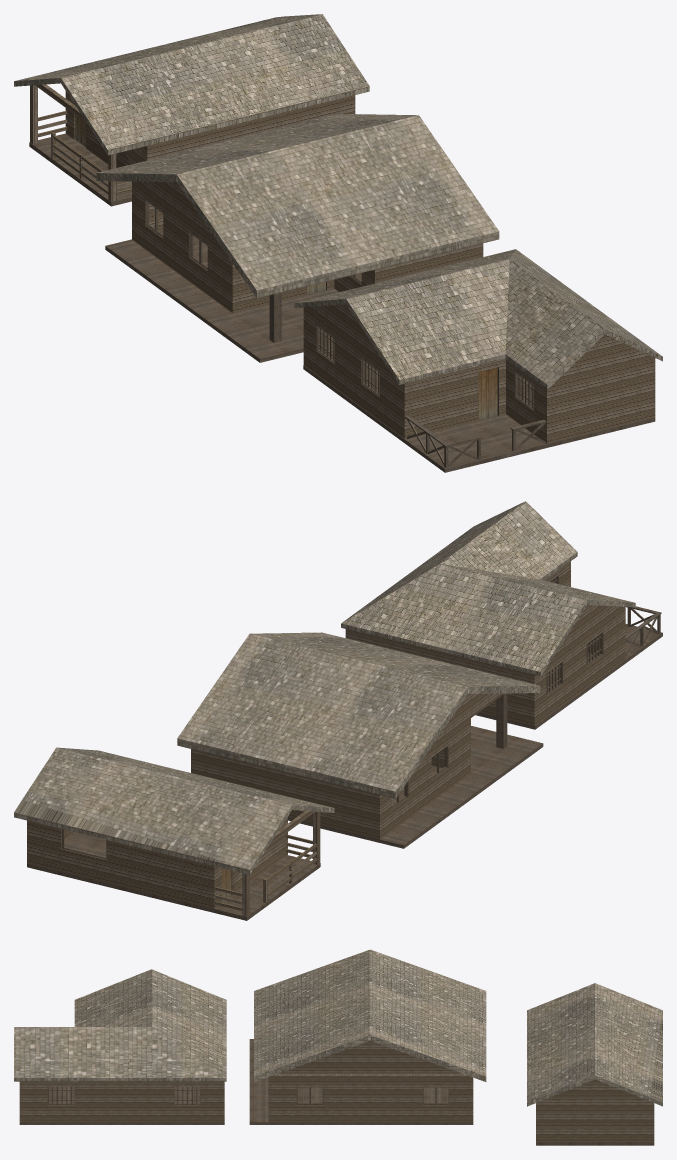
Rendered from caba-as.glb.
3 renders of one model, top to bottom at view 1: azimuth 30°, elevation 25°; view 2: azimuth 150°, elevation 25°; view 3: azimuth 270°, elevation 25°, orthographic. The views are drawn at different scales.
Parts seen in each view (by area): view 1: Cabaña_002, Cabaña, Cabaña_001, Cube_033; view 2: Cabaña_002, Cabaña_001, Cabaña; view 3: Cabaña_002, Cabaña, Cabaña_001.
Part boxes in pixels (<box>): Cabaña_002: <box>96,114,499,362</box>; Cabaña: <box>294,249,662,472</box>; Cabaña_001: <box>14,14,369,206</box>; Cube_033: <box>479,367,497,419</box>; Cabaña_002: <box>177,632,543,848</box>; Cabaña_001: <box>14,747,334,920</box>; Cabaña: <box>341,501,662,729</box>; Cabaña_002: <box>249,949,486,1124</box>; Cabaña: <box>14,969,226,1124</box>; Cabaña_001: <box>527,983,662,1145</box>.
Size of the model in its own units: 9.11 by 3.69 by 23.45.
4 materials, 4 textured.
